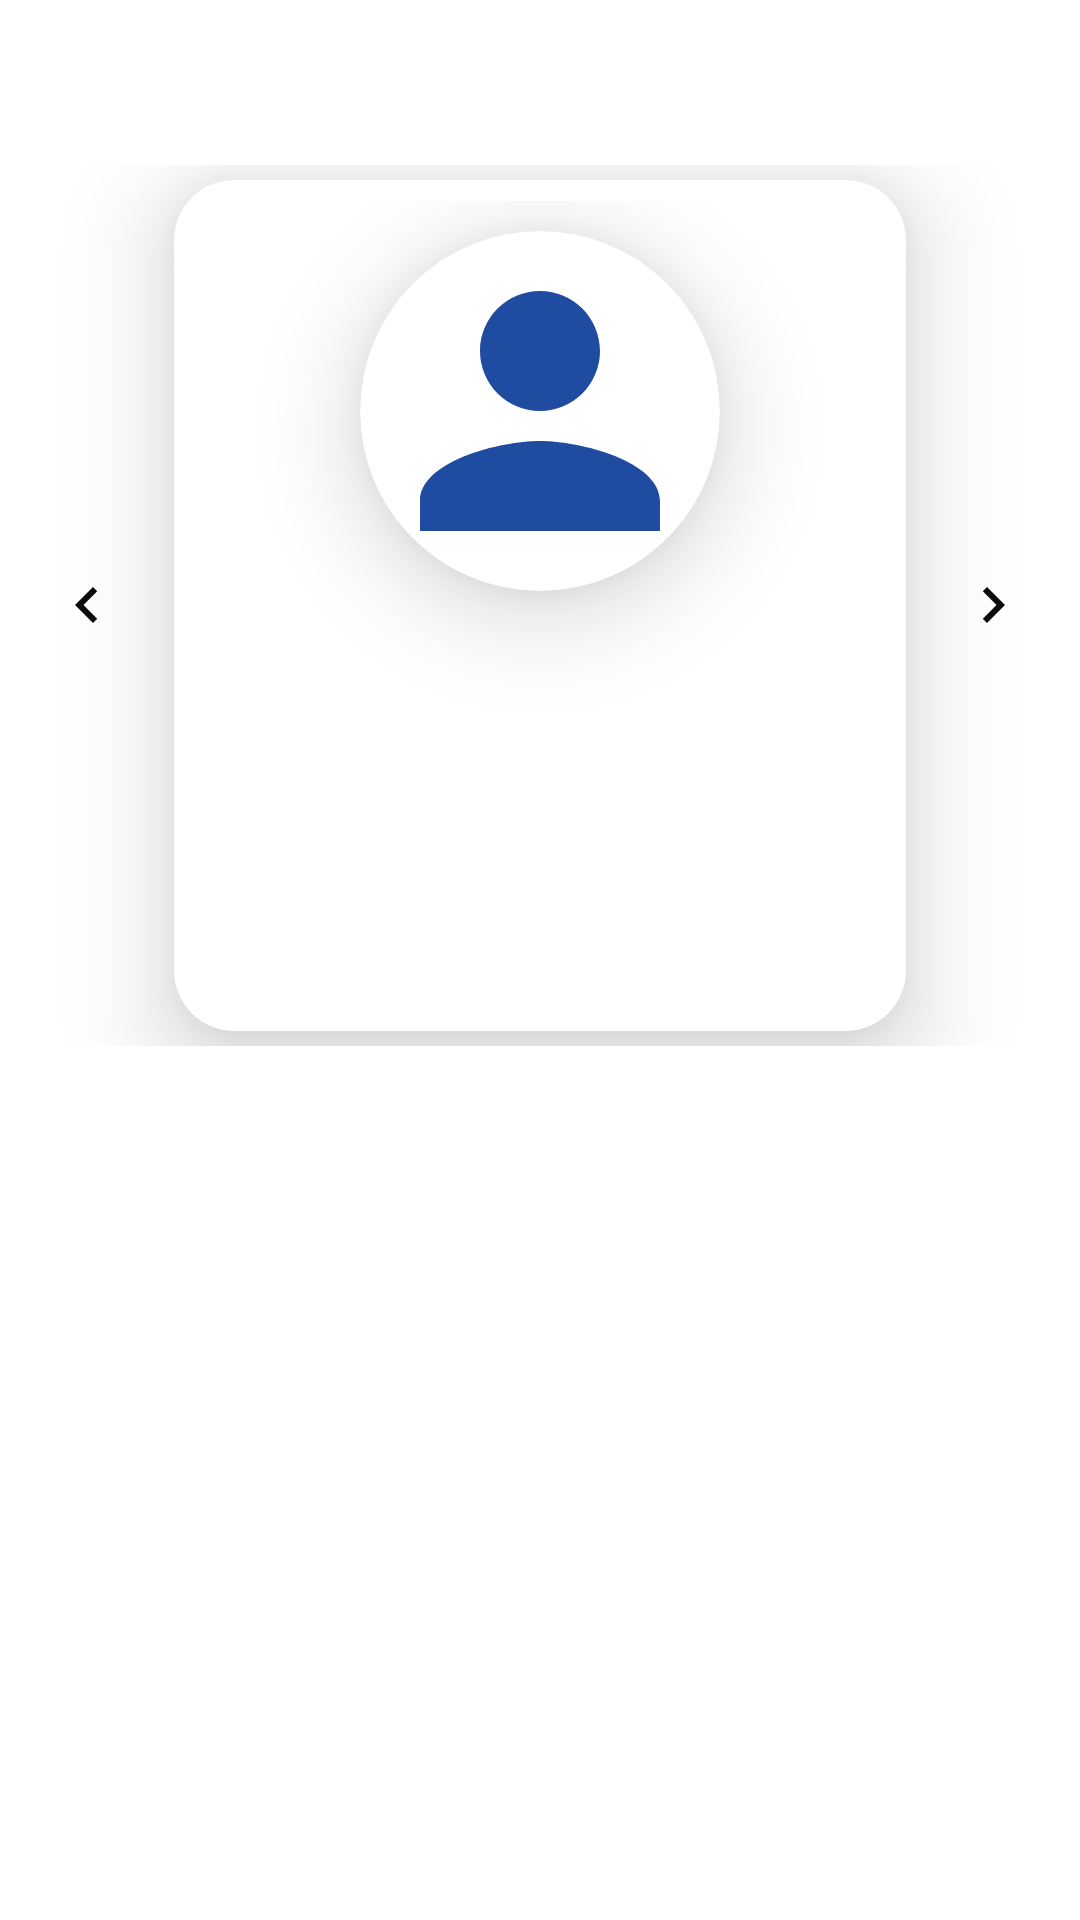

Named icons in this screenshot (1080x1920) and their bounding boxes, {"x1": x1, "y1": y1, "x2": x2, "y2": y2}:
navigate before: {"x1": 75, "y1": 587, "x2": 97, "y2": 623}
navigate next: {"x1": 983, "y1": 587, "x2": 1005, "y2": 623}
person: {"x1": 420, "y1": 291, "x2": 660, "y2": 531}
